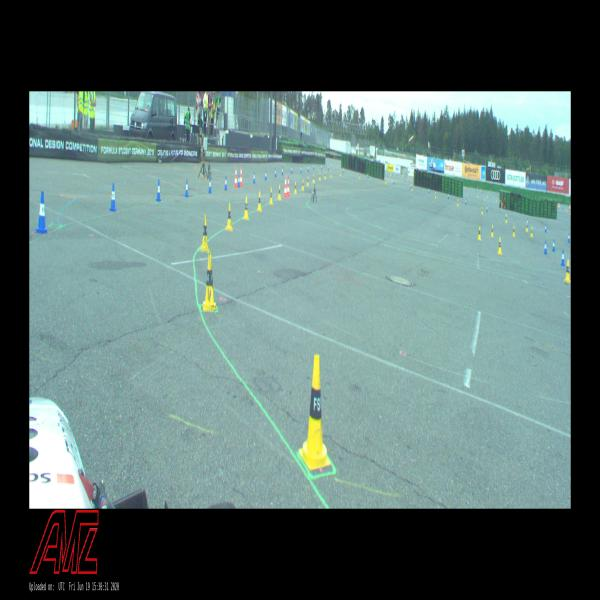blue_cone: (36, 192, 48, 233), (110, 183, 116, 211), (156, 180, 161, 202), (184, 179, 189, 198), (208, 176, 212, 194), (561, 249, 565, 266), (224, 176, 228, 190), (544, 241, 547, 254), (552, 239, 555, 252), (237, 174, 240, 187), (274, 168, 277, 178), (281, 166, 284, 176), (253, 172, 255, 183), (265, 170, 267, 181), (568, 232, 570, 243), (544, 224, 546, 233), (486, 204, 488, 213), (291, 165, 293, 174), (526, 218, 528, 227), (308, 164, 310, 172), (448, 192, 450, 200), (505, 210, 507, 218), (300, 166, 302, 173), (465, 198, 467, 205), (327, 164, 329, 171), (367, 172, 369, 179), (313, 164, 315, 170), (393, 179, 395, 185), (428, 188, 430, 194), (343, 167, 344, 173), (321, 164, 322, 170)
large_orange_cone: (234, 166, 238, 188), (284, 176, 288, 198), (287, 175, 290, 197), (240, 166, 243, 186)
yellow_cone: (299, 356, 332, 470), (202, 254, 217, 310), (199, 214, 210, 252), (226, 204, 233, 231), (564, 260, 570, 283), (244, 197, 249, 219), (258, 191, 262, 212), (269, 187, 273, 206), (498, 237, 502, 255), (278, 185, 282, 200), (512, 225, 516, 237), (478, 225, 481, 240), (491, 224, 494, 238), (294, 181, 297, 194), (530, 226, 533, 238), (505, 212, 507, 224), (313, 173, 315, 184), (302, 180, 304, 190), (526, 222, 528, 232), (306, 176, 308, 186), (481, 206, 483, 215), (319, 172, 321, 181), (434, 191, 436, 200), (324, 172, 326, 180), (456, 198, 458, 206), (330, 170, 332, 178), (385, 178, 387, 185), (340, 170, 341, 178), (359, 172, 360, 180)
